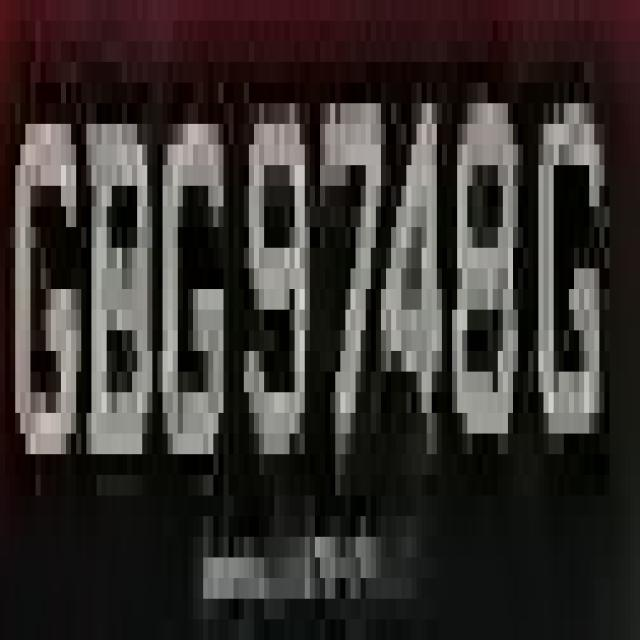4: (376, 21, 457, 536)
7: (300, 62, 386, 516)
8: (442, 21, 538, 496)
9: (223, 21, 315, 474)
B: (81, 83, 163, 516)
G: (523, 82, 615, 496), (10, 21, 81, 516), (162, 83, 238, 516)
